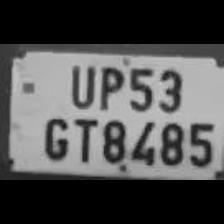3: (154, 64, 184, 112)
4: (127, 114, 156, 166)
5: (184, 116, 214, 168), (124, 62, 154, 112)
8: (98, 114, 127, 166), (156, 116, 184, 168)
G: (38, 114, 70, 160)
P: (94, 62, 125, 112)
T: (71, 114, 97, 164)
U: (64, 60, 96, 108)
